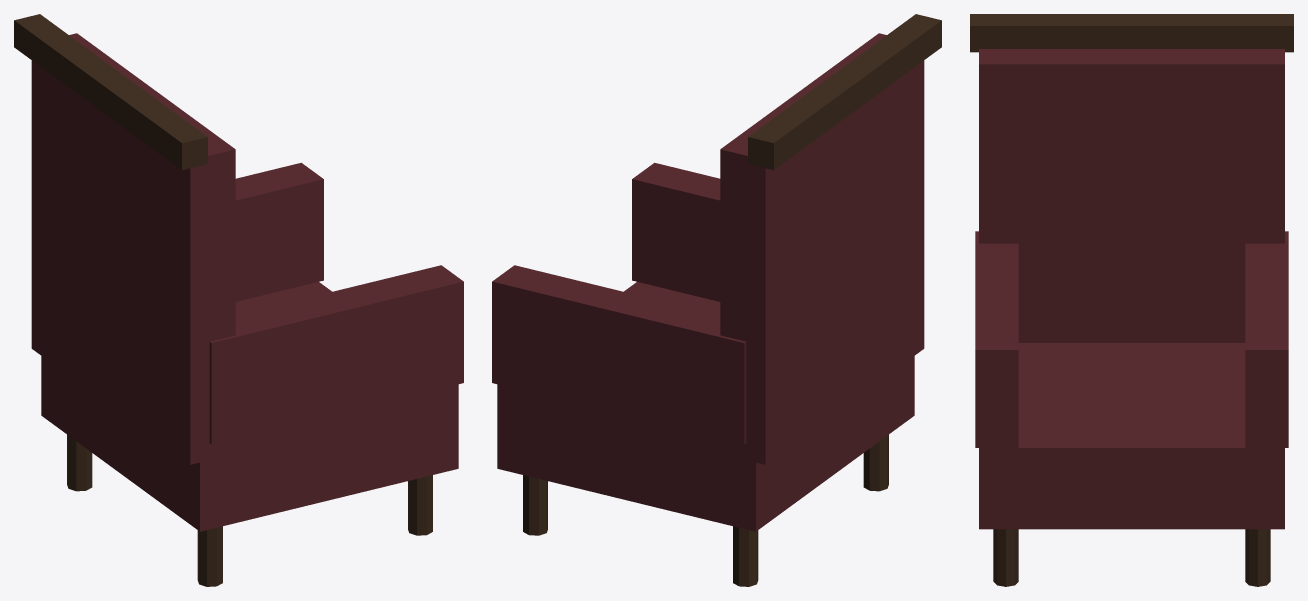
Rendered from SM_Mob_Koltuk.fbx.
3 views of the same model, side by side, from view 1: azimuth 30°, elevation 25°; view 2: azimuth 150°, elevation 25°; view 3: azimuth 270°, elevation 25° (orthographic). The views are drawn at different scales.
Parts seen in each view (by area): view 1: Mob_Koltuk; view 2: Mob_Koltuk; view 3: Mob_Koltuk.
Part boxes in pixels (x1,y1,x2,y2): Mob_Koltuk: (14, 14, 463, 586); Mob_Koltuk: (492, 14, 941, 586); Mob_Koltuk: (970, 14, 1293, 586).
Bounding box in the file's own units: 88 × 137 × 90.
